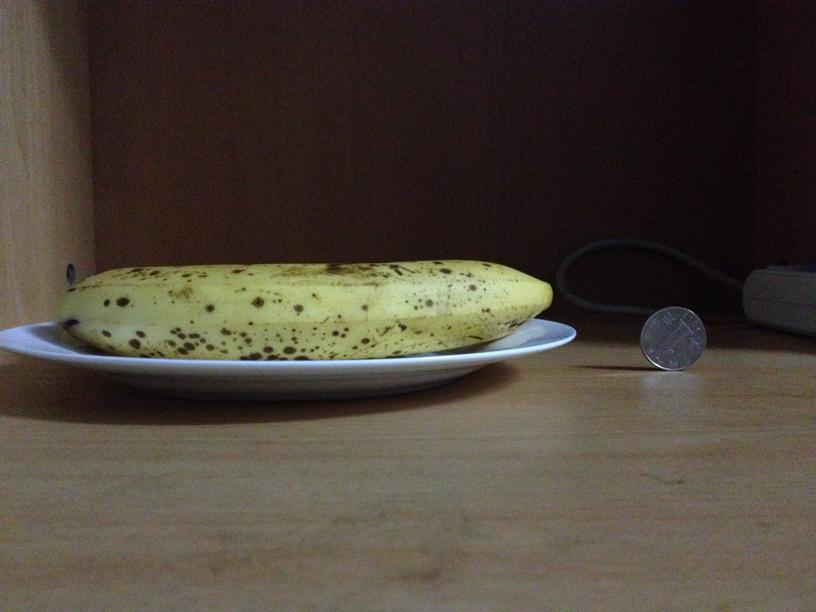banana: (64, 257, 554, 361)
coin: (638, 306, 707, 371)
